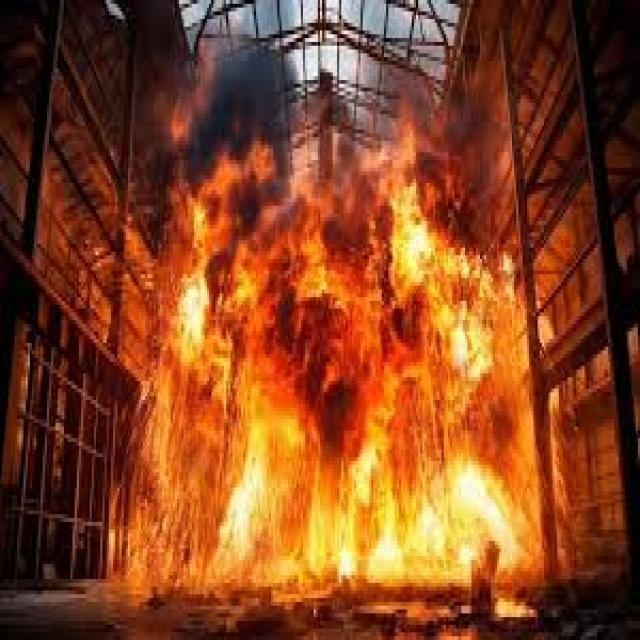fire: (127, 95, 557, 595)
